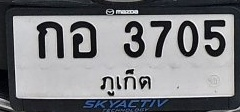txt01: (35, 20, 65, 59)
txt38: (69, 20, 98, 60)
